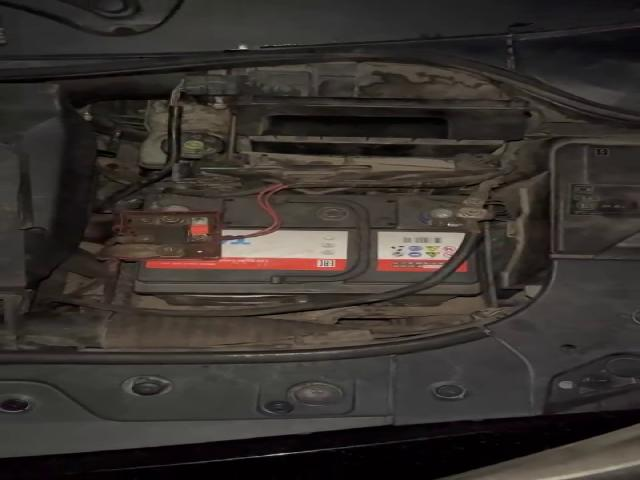accumulator: (99, 193, 480, 307)
fuse_box: (532, 137, 636, 259)
